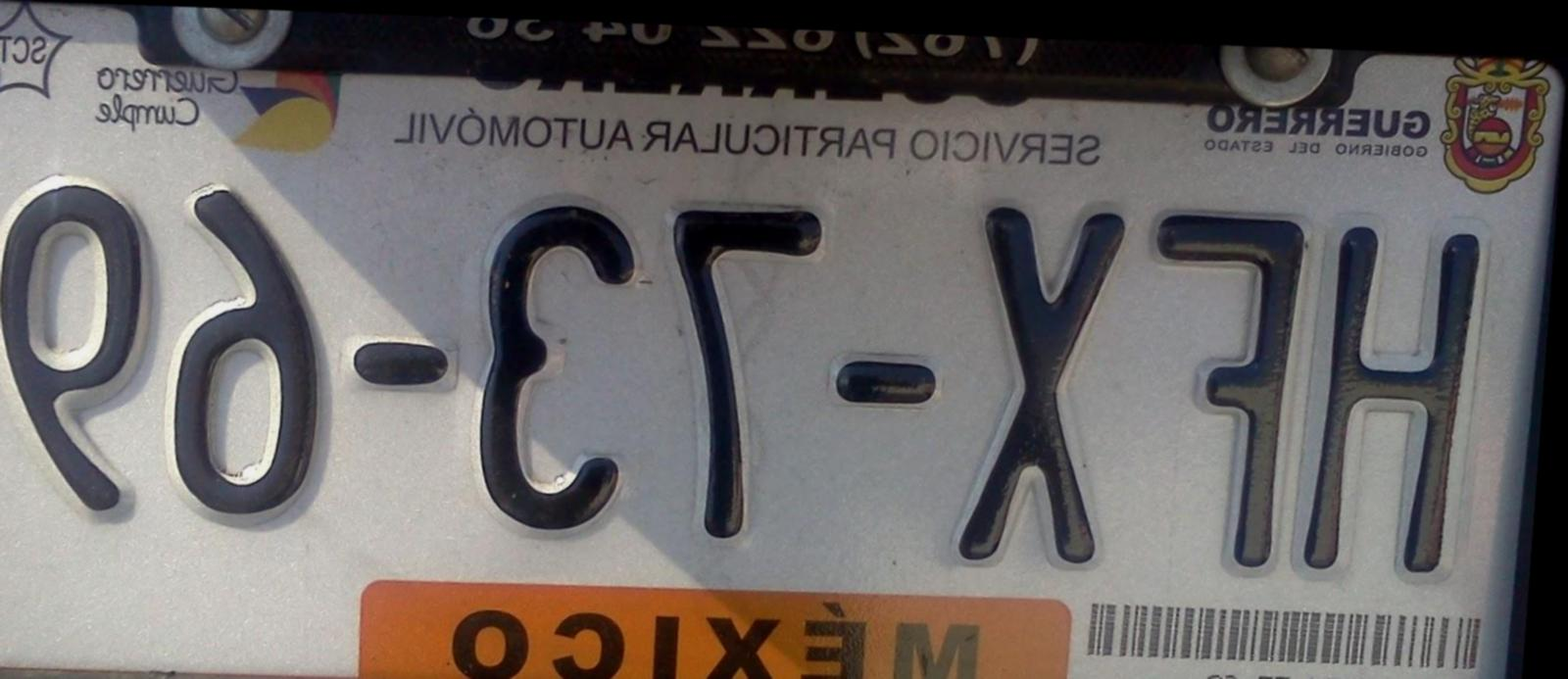License_Plate: (0, 7, 1553, 679)
